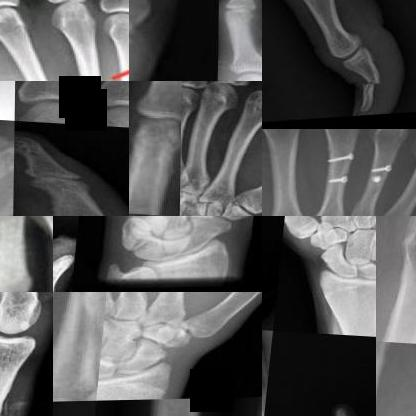fracture: (53, 292, 112, 392), (357, 72, 398, 120), (319, 153, 363, 197), (0, 261, 42, 292), (361, 163, 402, 194), (361, 216, 376, 230)
